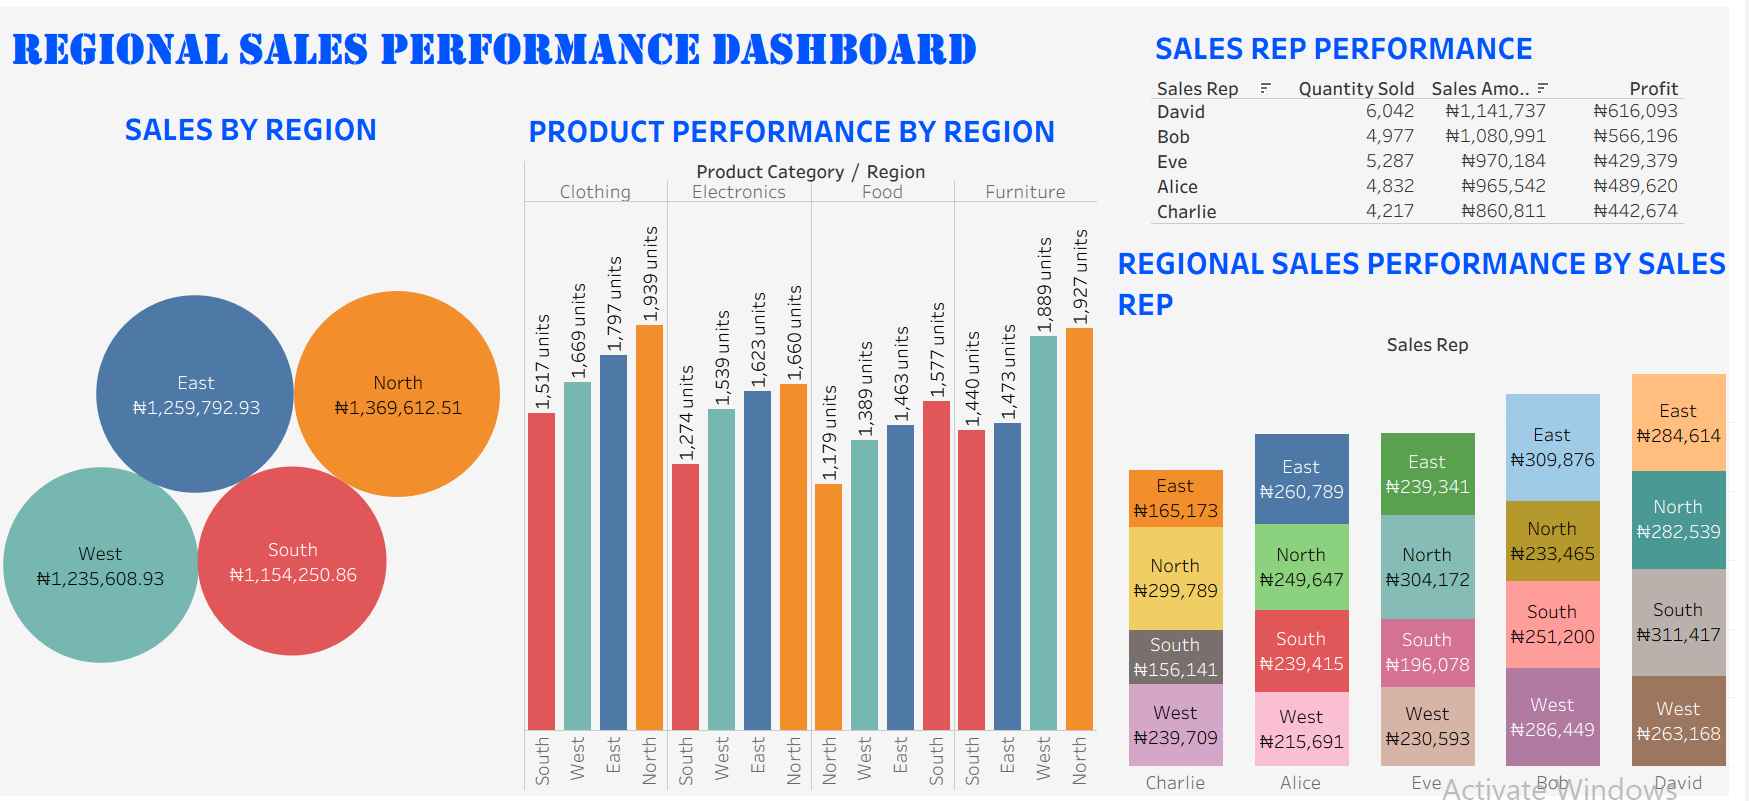

The page's visual inventory and layout, read from the dashboard file:
{"tool":"tableau","page":{"name":"Dashboard 2","canvas":[1000,1000],"units":"permille","ordinal":1},"visuals":[{"type":"text","box":[10.2,23.2,646,80.7]},{"type":"worksheet","title":"SALES REP PERFORMANCE","mark":"Automatic","rows":["Sales_Rep"],"box":[662.3,23.2,334.1,267.7]},{"type":"worksheet","title":"SALES BY REGION","mark":"Circle","box":[5.4,124.7,289.7,869.2]},{"type":"worksheet","title":"PRODUCT PERFORMANCE BY REGION","mark":"Automatic","rows":["Quantity_Sold"],"cols":["Product_Category","Region"],"box":[303.5,127.1,332.9,861.9]},{"type":"worksheet","title":"REGIONAL SALES PERFORMANCE BY SALES REP","mark":"Automatic","rows":["Sales_Amount"],"cols":["Sales_Rep"],"box":[640.6,290.9,364.2,702.9]}]}

Visuals, with their boxes on the dashboard's canvas, which has no fixed pixel size, in thousandths of its width and height (x1, y1, x2, y2). These are canvas units, not pixel positions in the 1749x801 screenshot, which may show the page scaled, cropped or inside an application window:
text: x1=10, y1=23, x2=656, y2=104
"SALES REP PERFORMANCE" worksheet: x1=662, y1=23, x2=996, y2=291
"SALES BY REGION" worksheet (Circle marks): x1=5, y1=125, x2=295, y2=994
"PRODUCT PERFORMANCE BY REGION" worksheet: x1=304, y1=127, x2=636, y2=989
"REGIONAL SALES PERFORMANCE BY SALES REP" worksheet: x1=641, y1=291, x2=1005, y2=994
